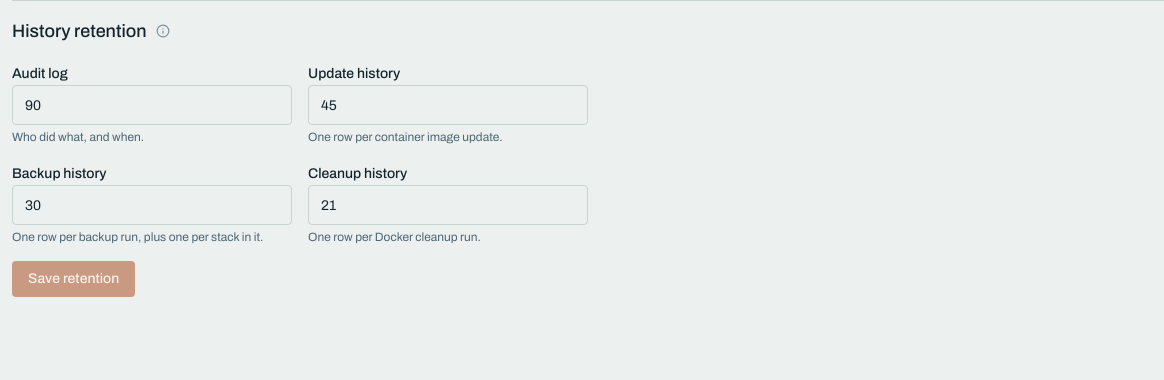
it: HistoryRetentionSection — a failed REFETCH must not discard the form › keeps the populated form and the unsaved edit when a REFETCH fails
Replace the text in the number field labelled "Audit log" with "120" at [152, 105], box x1=12 y1=85 x2=292 y2=125
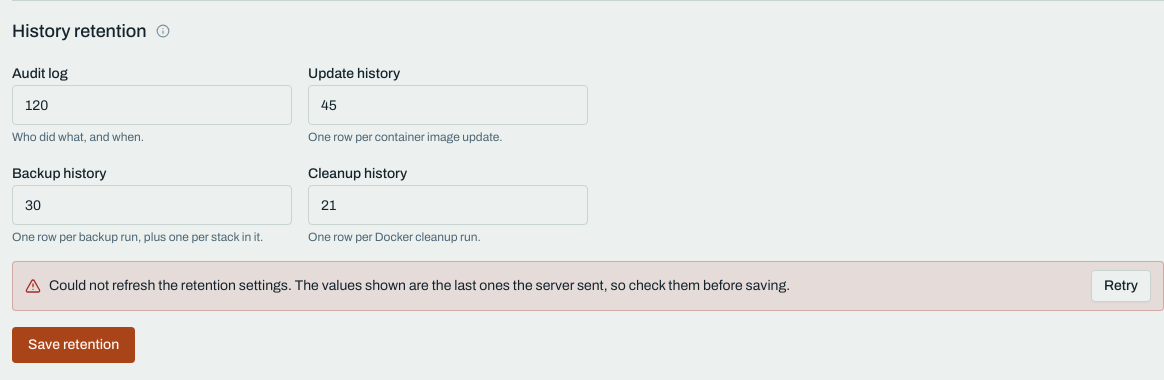
Check: the number field labelled "Update history" holds "45", box x1=308 y1=85 x2=588 y2=125
Check: the text "Could not refresh the retention settings. The values shown are the last ones the server sent, so check them before savi" is shown, box x1=49 y1=276 x2=790 y2=296
